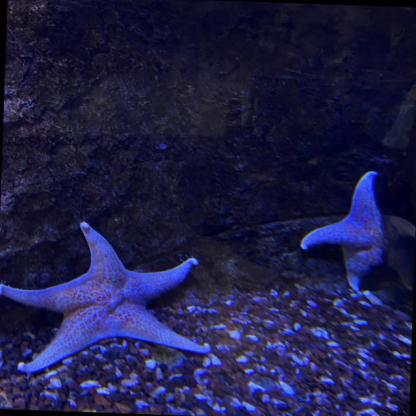starfish: (0, 218, 214, 381), (300, 168, 415, 295)
